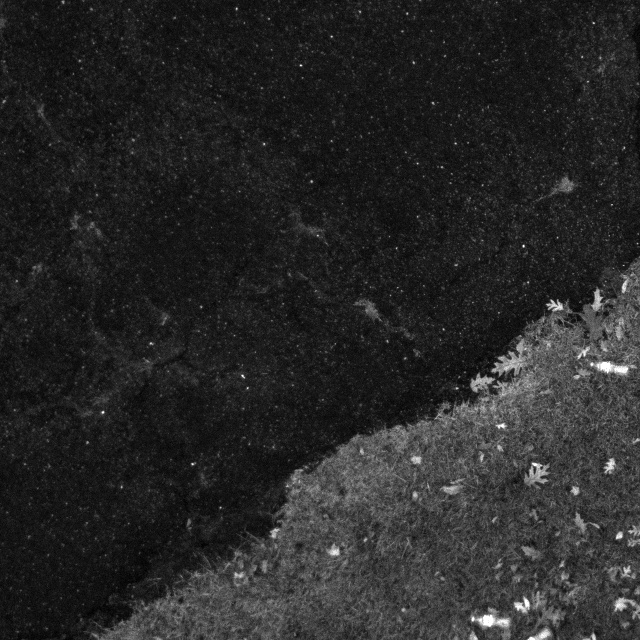bottle: (586, 355, 630, 380)
